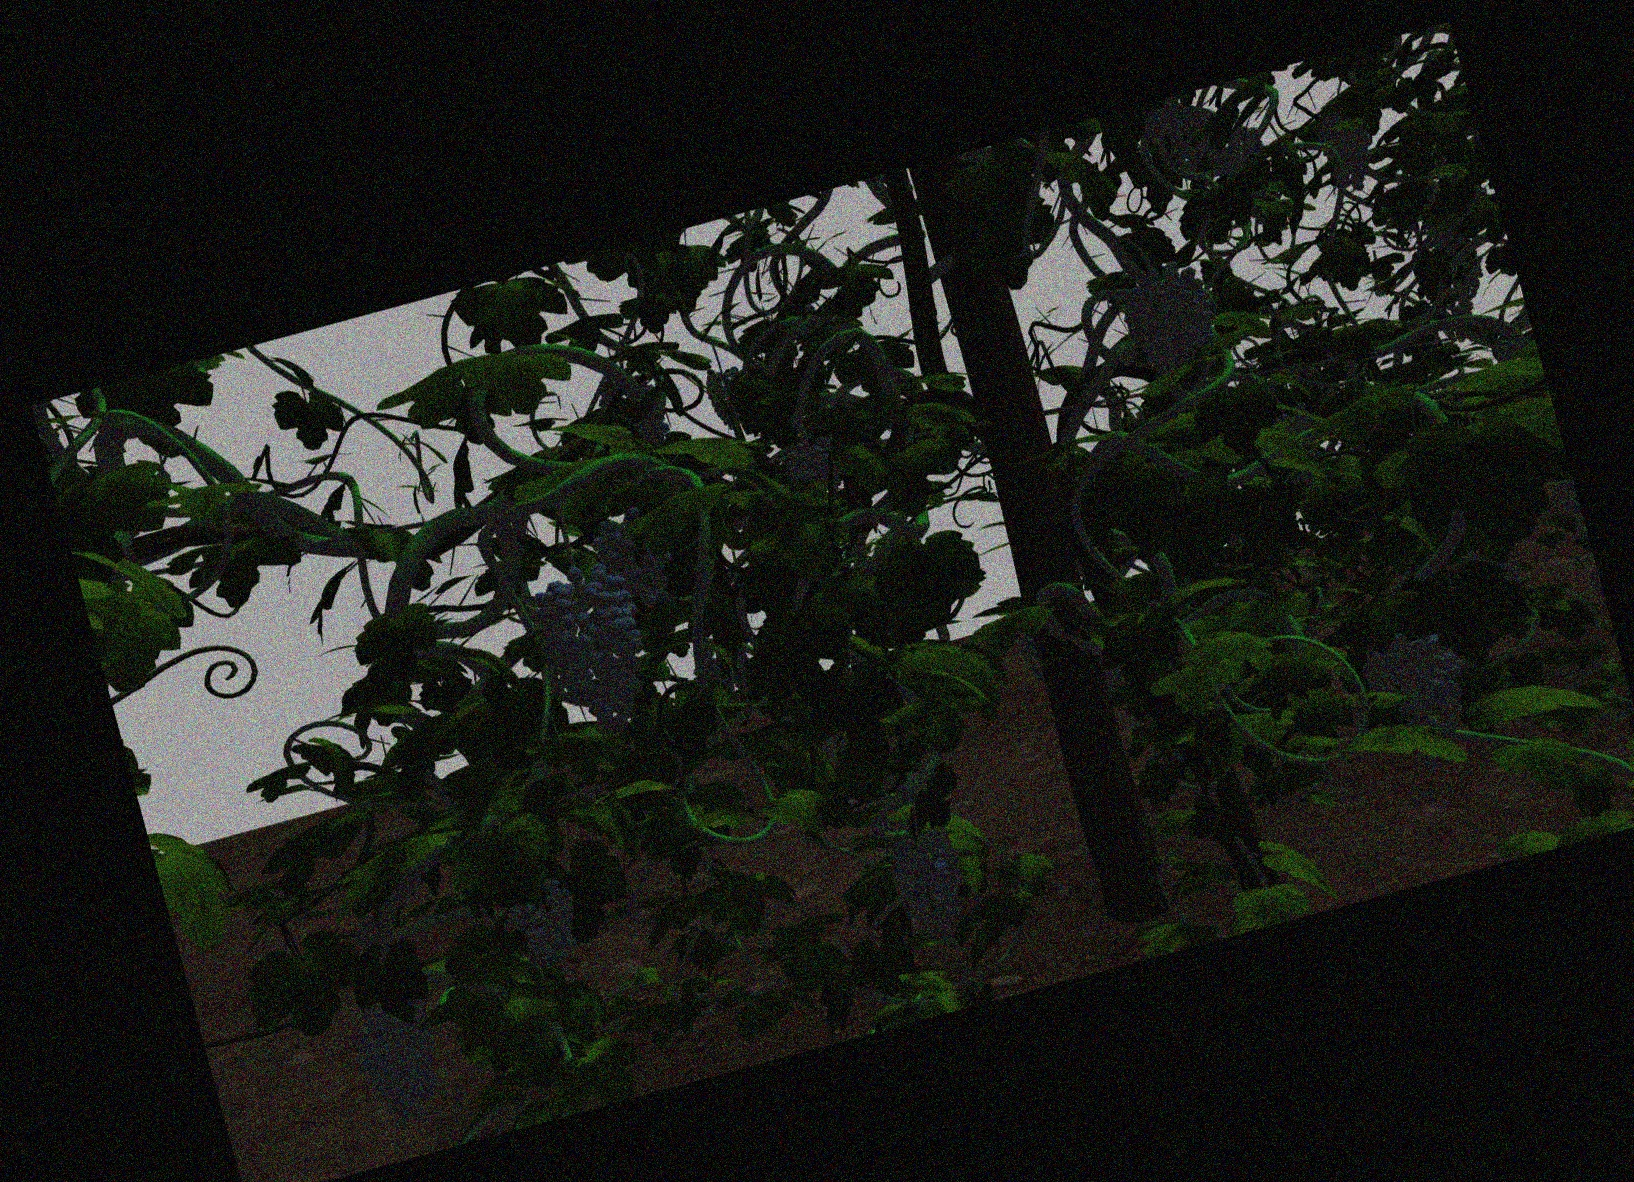grape: (542, 568, 644, 731), (1128, 263, 1215, 375), (360, 1004, 441, 1124), (1376, 629, 1463, 738), (894, 833, 967, 944), (603, 510, 672, 602), (505, 886, 582, 964), (1323, 109, 1371, 192), (787, 438, 842, 496)
